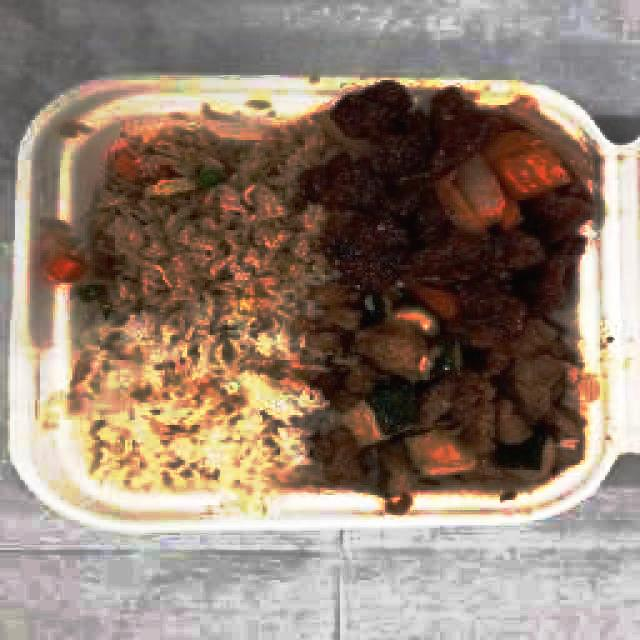Beijing Beef: (338, 98, 574, 303)
Fried Rice: (101, 133, 306, 296)
Kung Pao Chicken: (356, 314, 556, 476)
rice: (104, 313, 289, 481)
